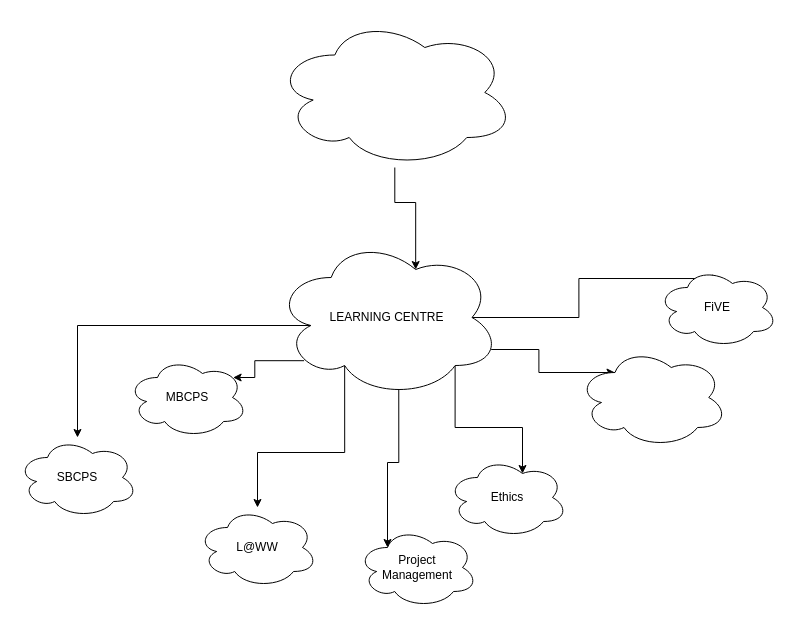
This 795x625 diagram has some shape labels left out. The box of each missing label's shape, as (x1, y1, x2, y2) in pixels:
House of Indigenous Learning: (576, 346, 728, 448)
LEARNING HUB: (274, 16, 515, 168)
